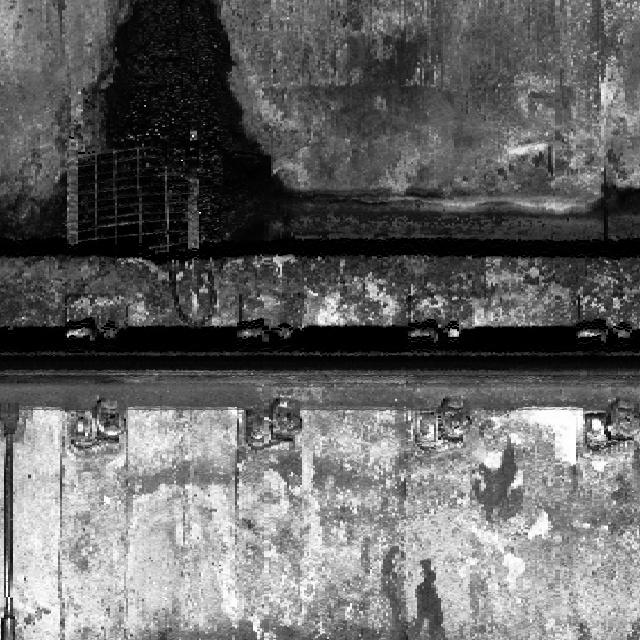leakage: (38, 0, 321, 238)
